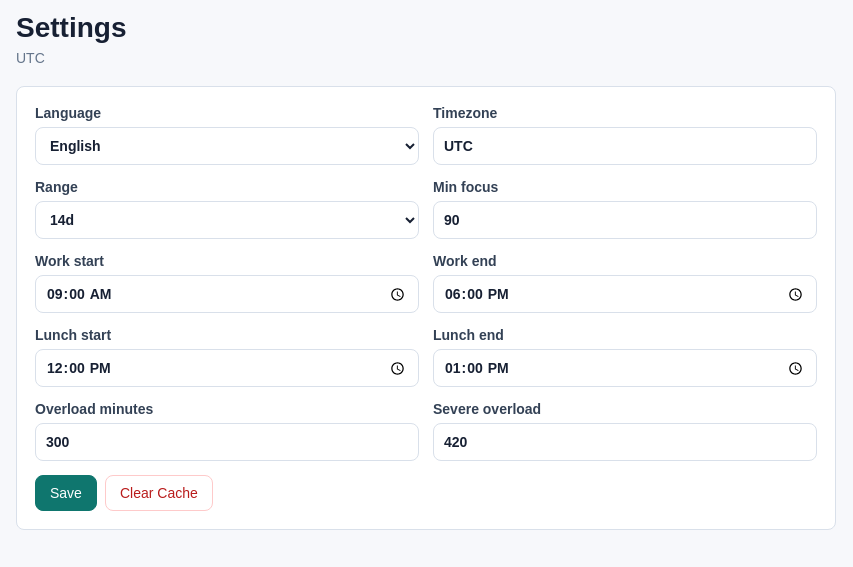
Scenario: desktop UI › switches settings page copy to Chinese
The width and height of the screenshot is (853, 567).
Select "中文" in the dropdown labelled "Language" at (227, 146), box [35,127,419,165]
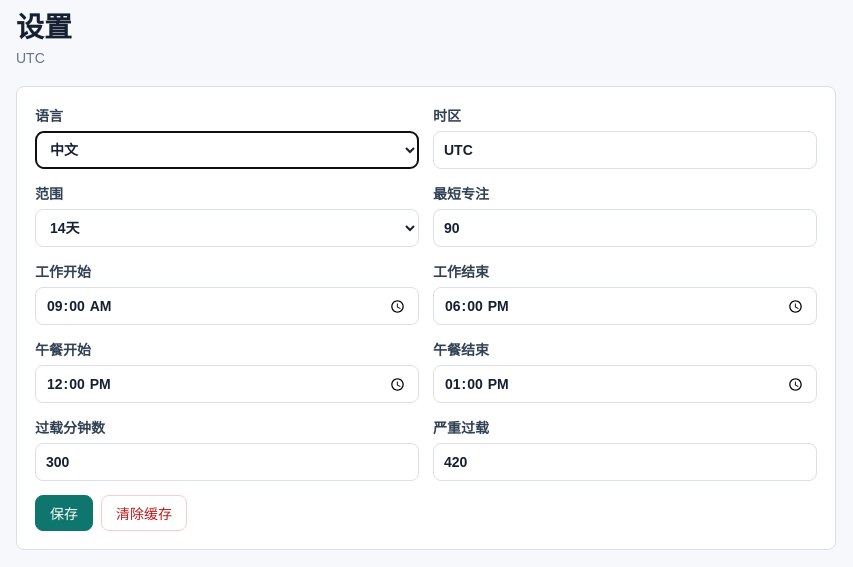
Result: the heading "设置" is shown at [16,12,72,44]
Result: the button "保存" is shown at [35,495,93,531]
